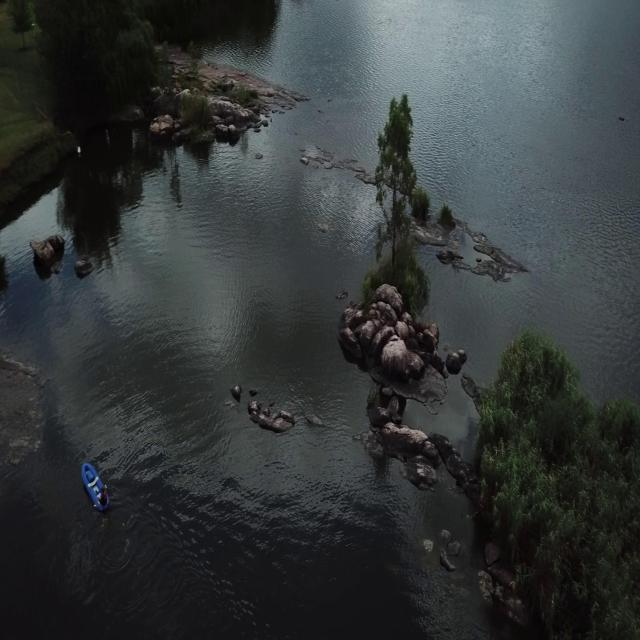kayak: (79, 460, 111, 516)
